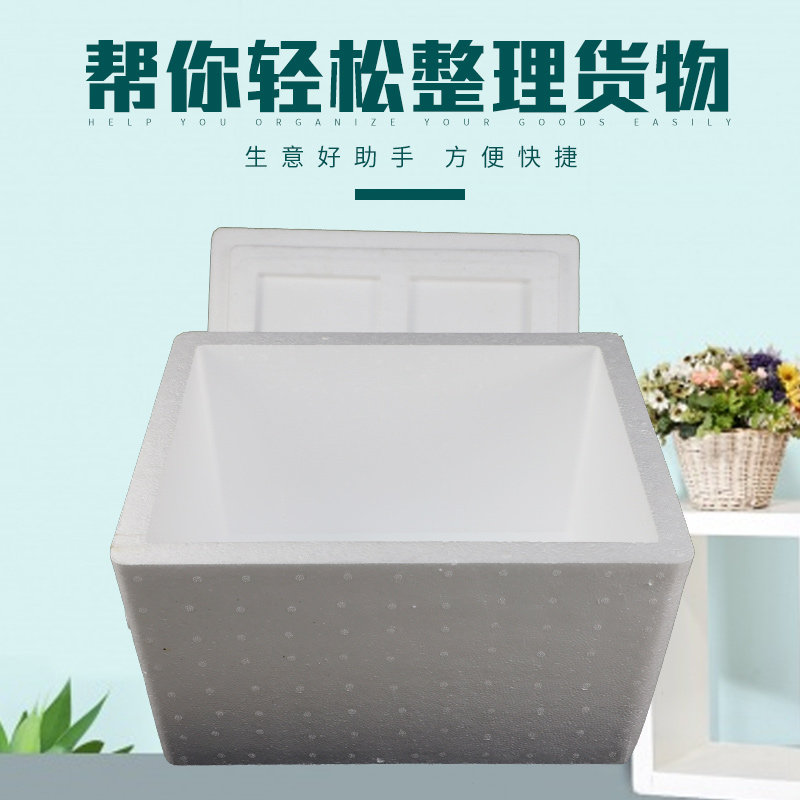Boxes: (111, 324, 693, 764)
